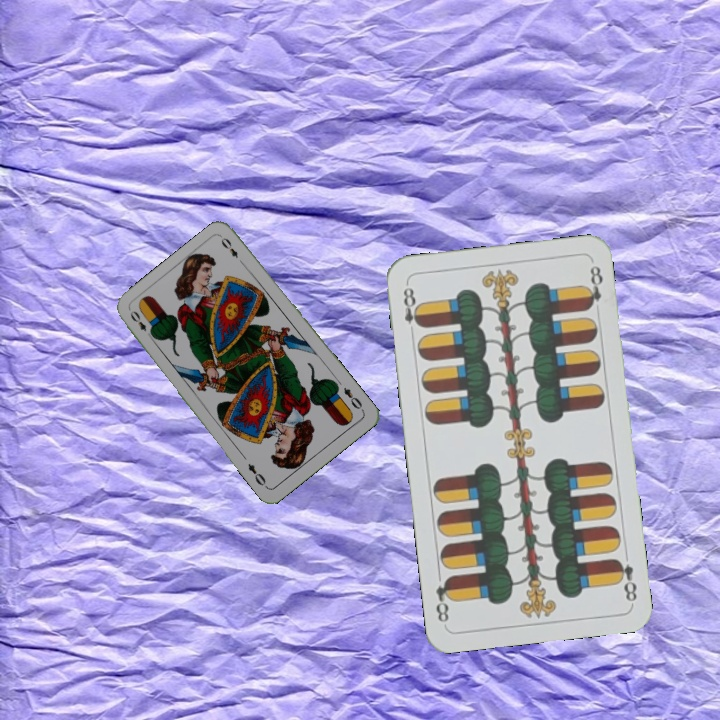E8: (399, 280, 425, 339), (611, 554, 640, 604)
EO: (126, 306, 156, 341), (339, 383, 366, 414)
